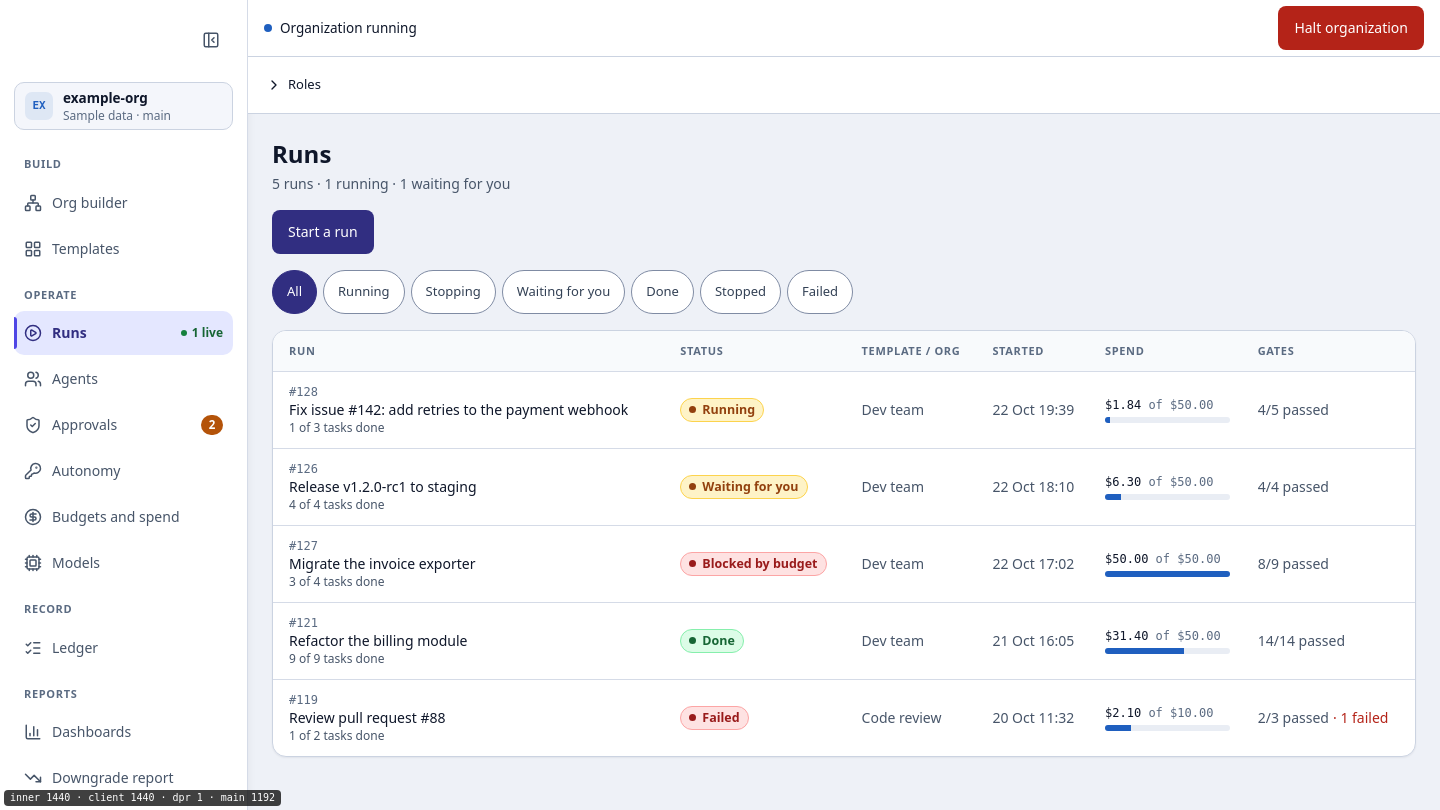
Test: Start a run (first approval, the quickstart guide, section 9) › shows the server's refusal with its code and keeps the dialog and the plan
The width and height of the screenshot is (1440, 810).
Step 1. Click the button "Start a run" → (323, 232), box [272,210,374,254]
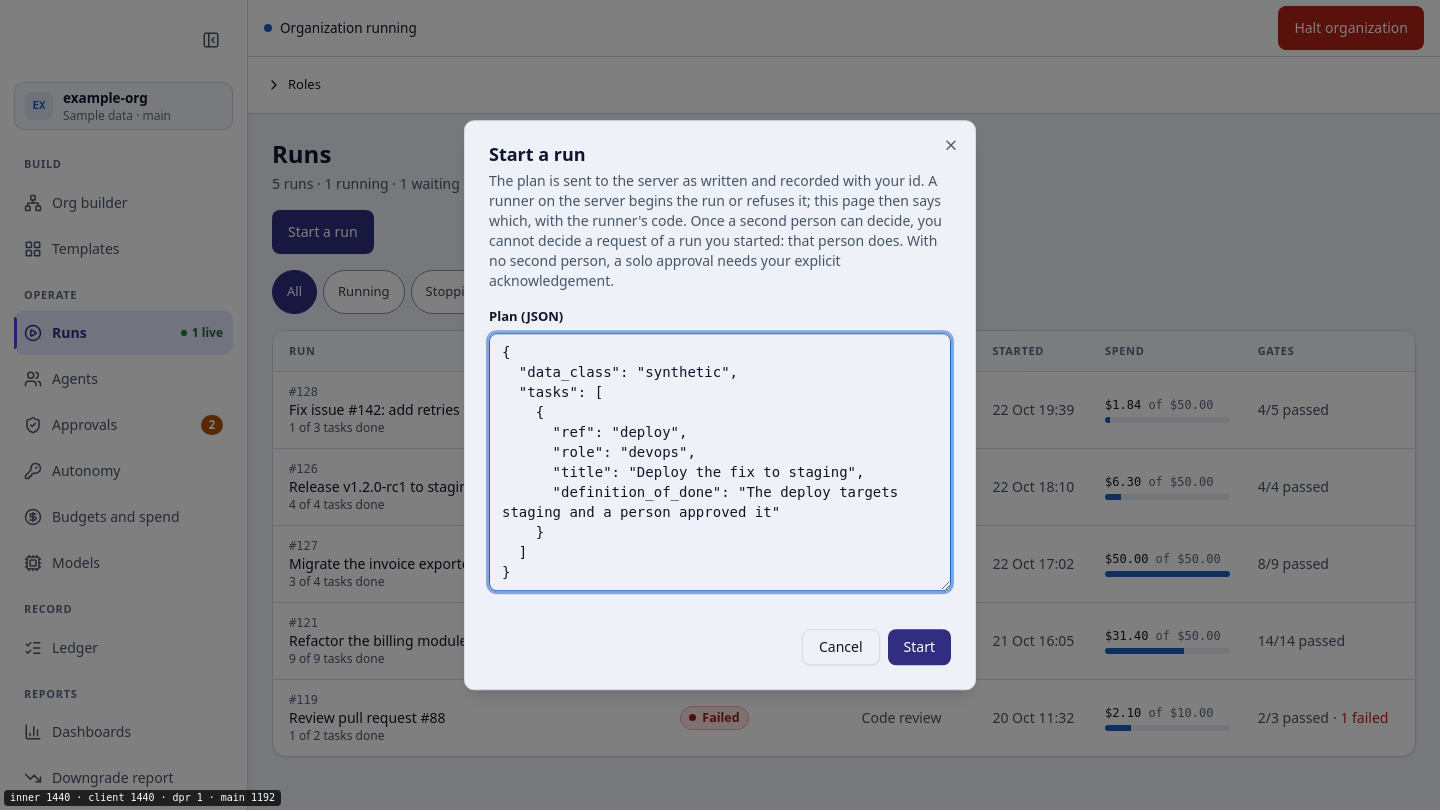
Step 2. Click the button "Start" → (919, 647), box [888,629,951,665]
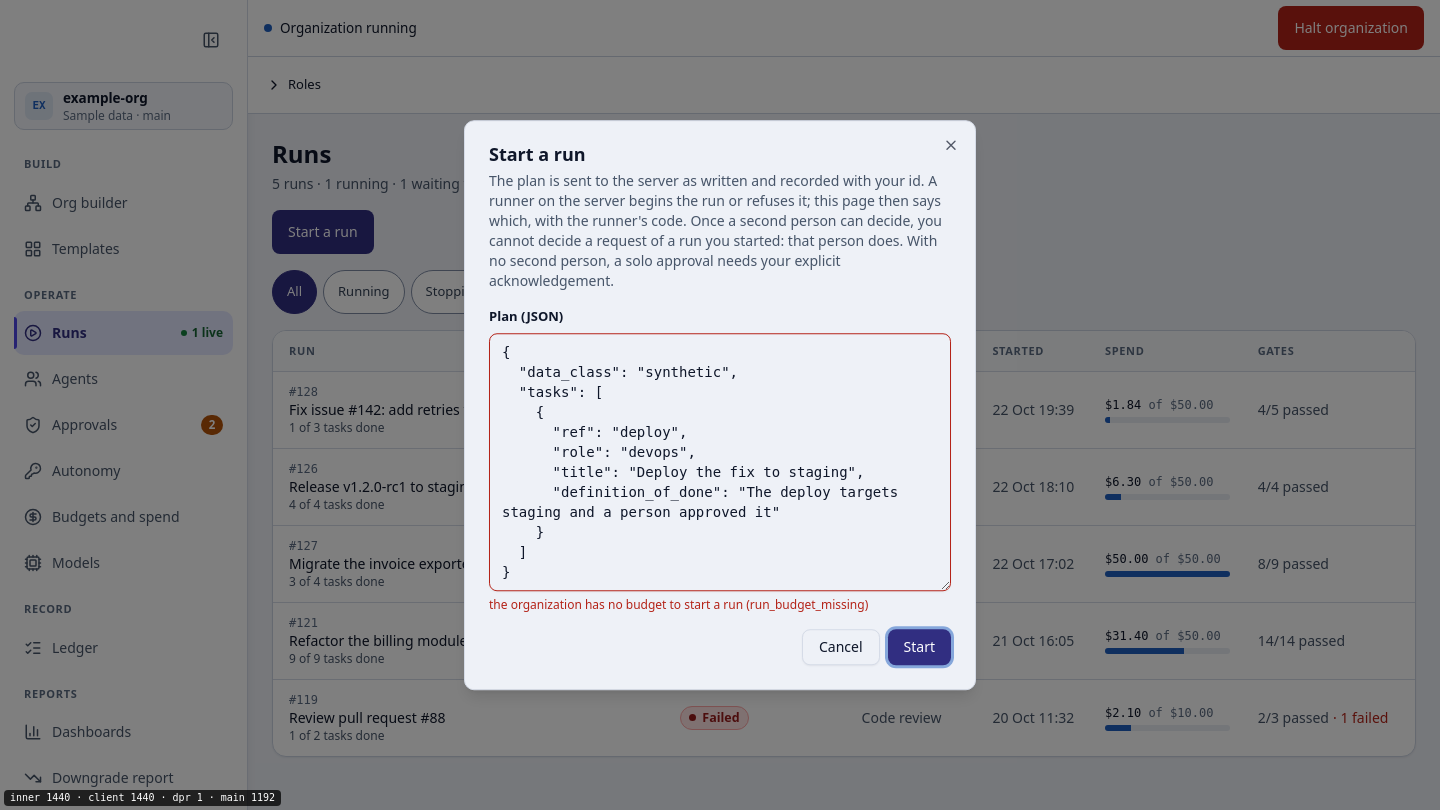
Now the text box labelled "Plan (JSON)" holds "{   \"data_class\": \"synthetic\",   \"tasks\": [     {       \"ref\": \"deploy\",       \"role\": \"devops\",       \"title\": \"Deploy the fix to staging\",       \"definition_o", box [489,333,951,591]
Now the message reads "the organization has no budget to start a run (run_budget_missing)", box [489,596,868,613]
